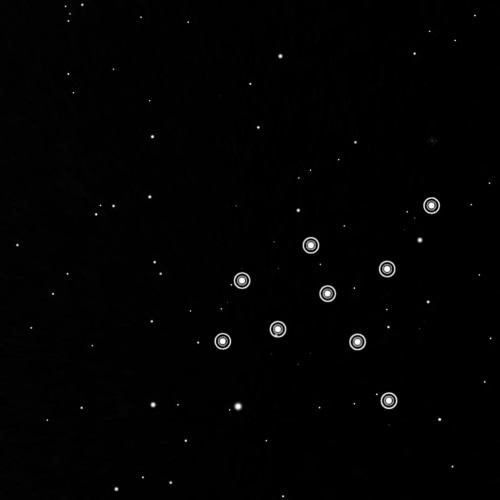cygnus: (209, 190, 444, 413)
